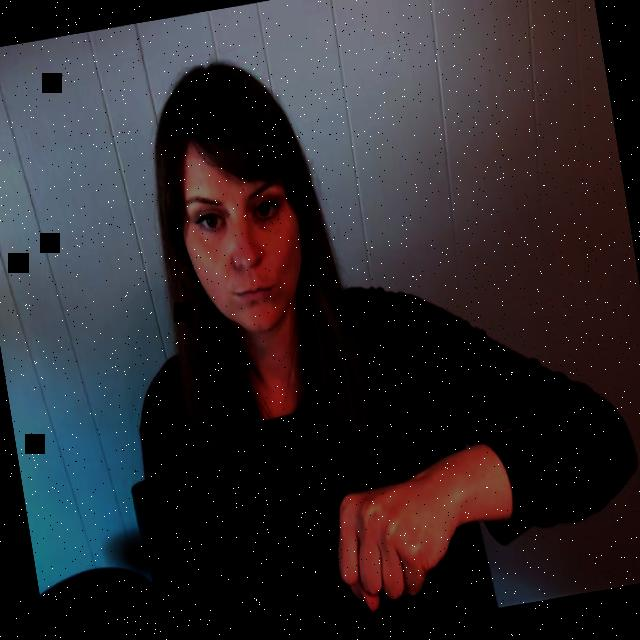Rock: (320, 451, 462, 620)
